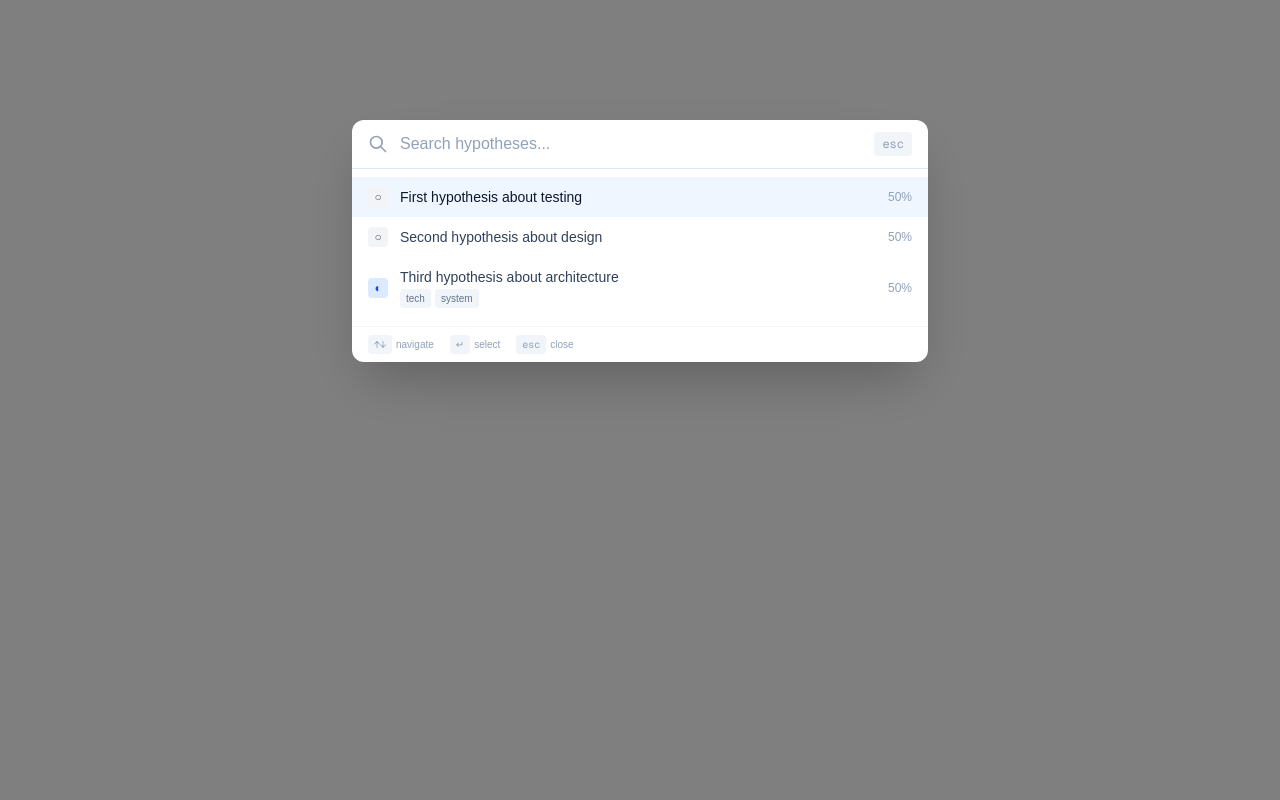
Test: SearchModal › filtering › filters hypotheses by statement
The image size is (1280, 800).
Type "design" into the field with placeholder "Search hypotheses..." at point(631, 144), box [400,132,862,156]
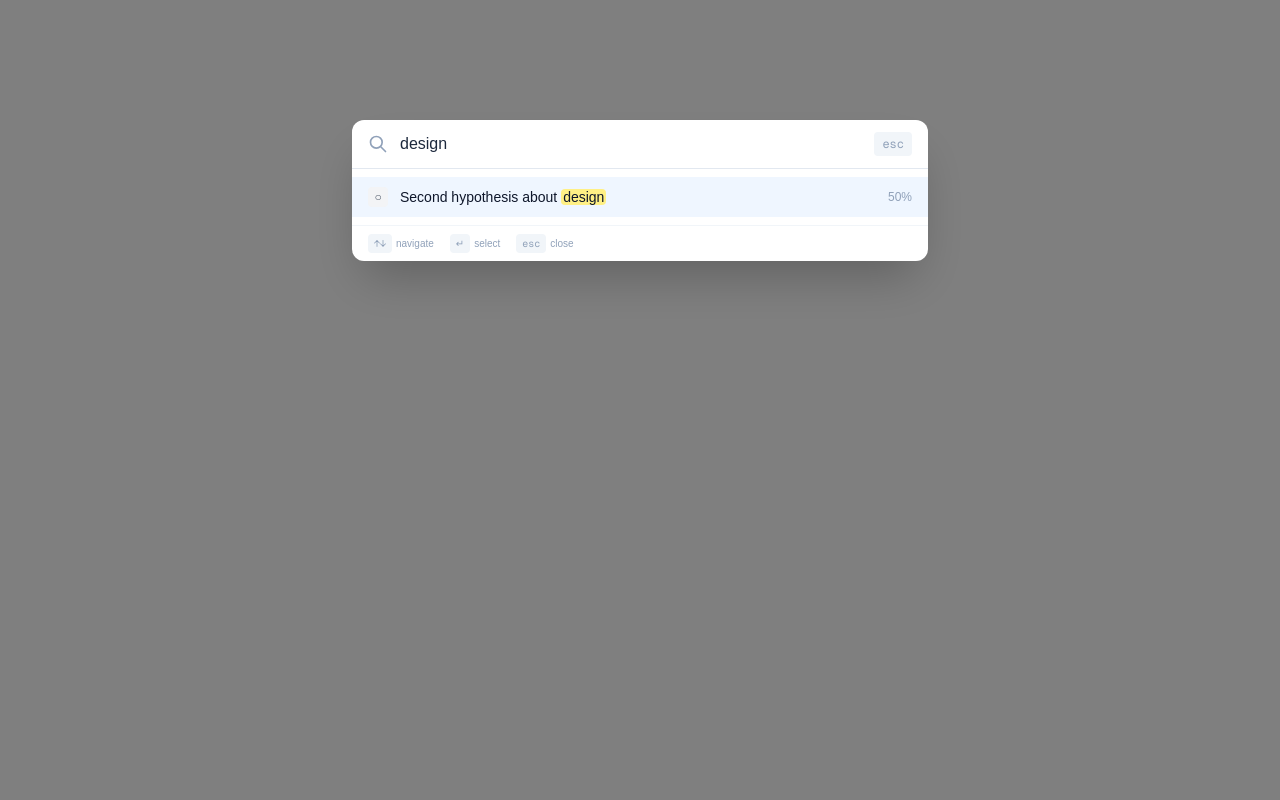
Expected: the text "Second hypothesis about design" is shown, [400,189,606,205]
Expected: the button "First hypothesis" is gone
Expected: the button "Third hypothesis" is gone
